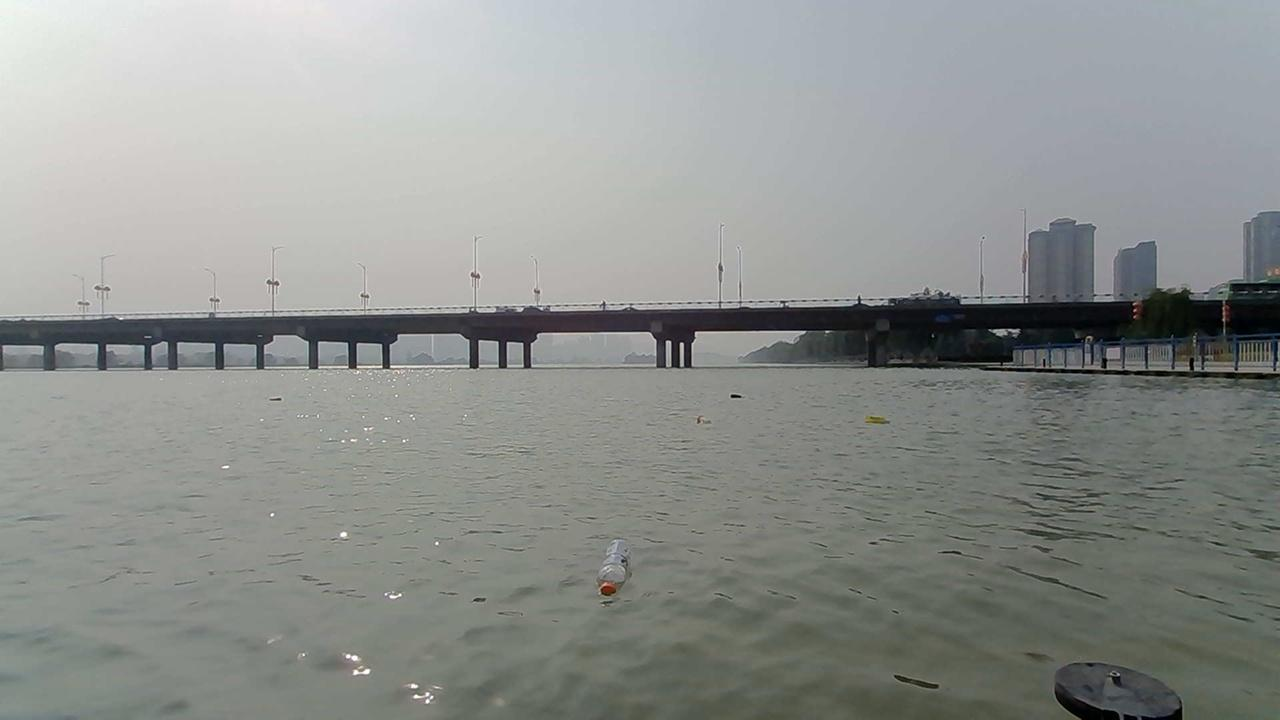bottle: (595, 538, 633, 592), (864, 414, 890, 422), (695, 414, 711, 424), (729, 392, 745, 397), (268, 395, 282, 400)
